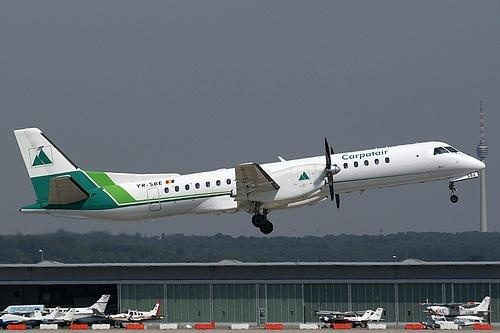aeroplane: (13, 125, 486, 238), (5, 294, 113, 325), (421, 292, 493, 325), (316, 306, 383, 328), (107, 301, 161, 325), (3, 309, 61, 327)
